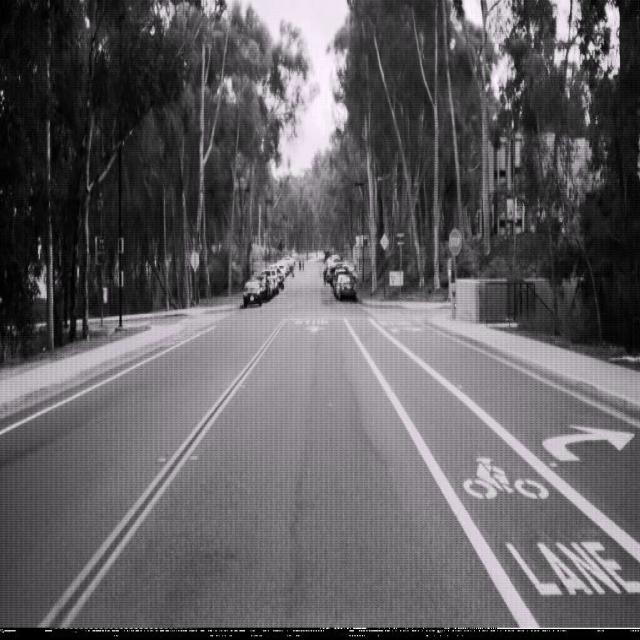stop_sign: (448, 227, 462, 254)
